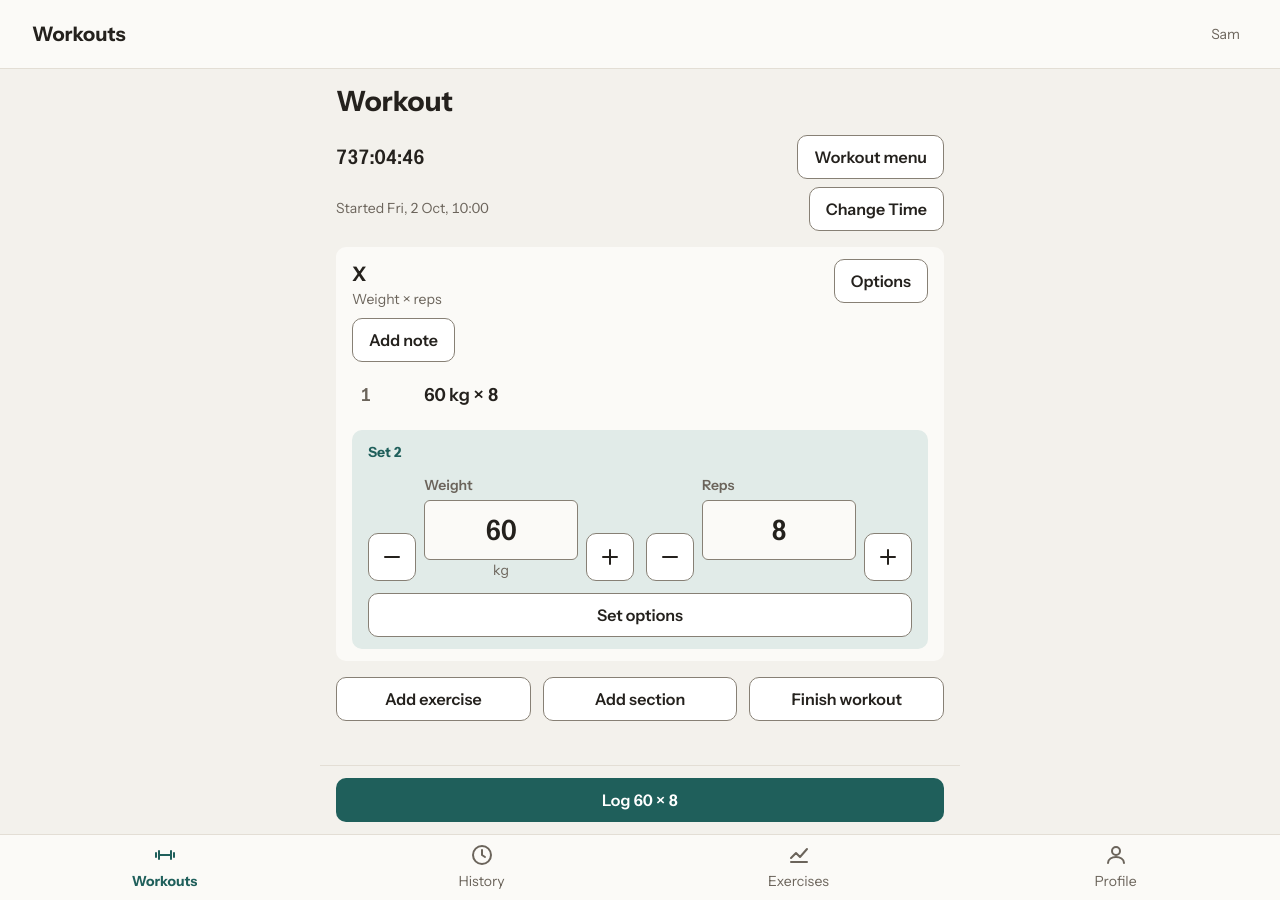
Test: 18.0 AC26 — a 422 on a live set write is an ordinary failure › the row shows Couldn't save with Edit and Discard
Expected: the heading "Workout" is shown, [336, 84, 453, 118]
Replace the text in the field labelled "Reps" with "5" at [779, 530], box [702, 500, 856, 560]
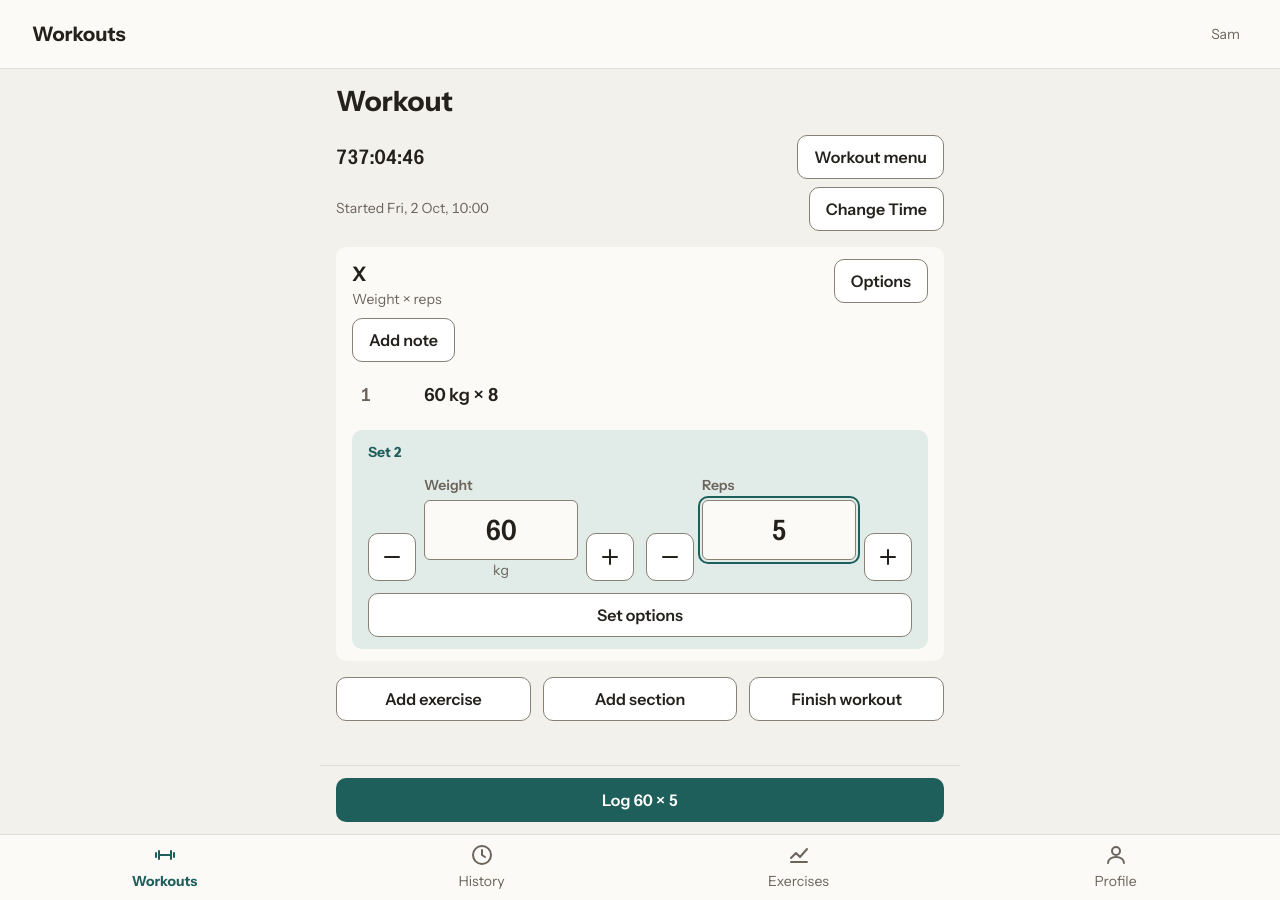
Click the button "Log 60 × 5" at [640, 800], box [336, 778, 944, 822]
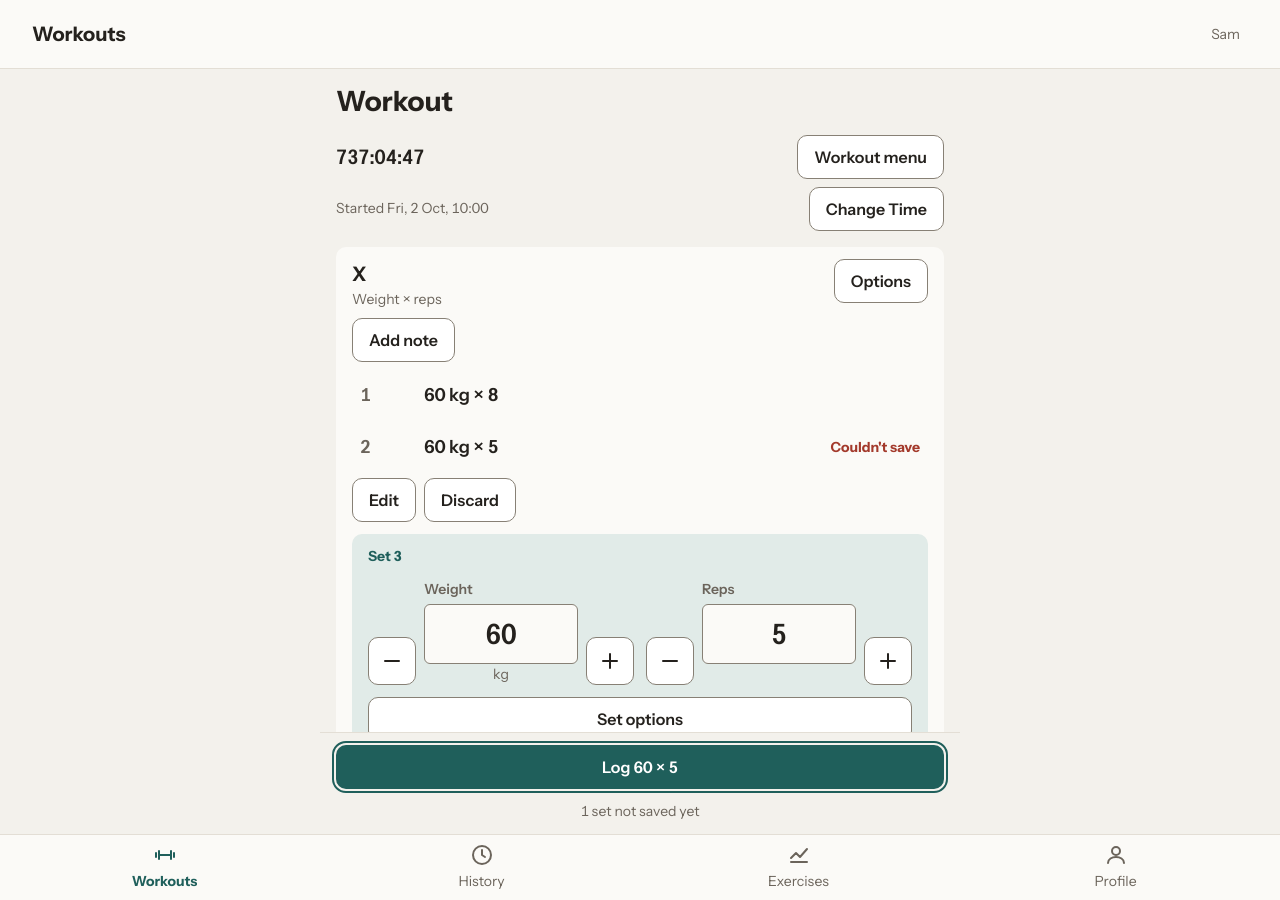
Expected: the button with aria-label "Edit set " is shown, [352, 478, 416, 522]
Expected: the button with aria-label "Discard set " is shown, [424, 478, 516, 522]
